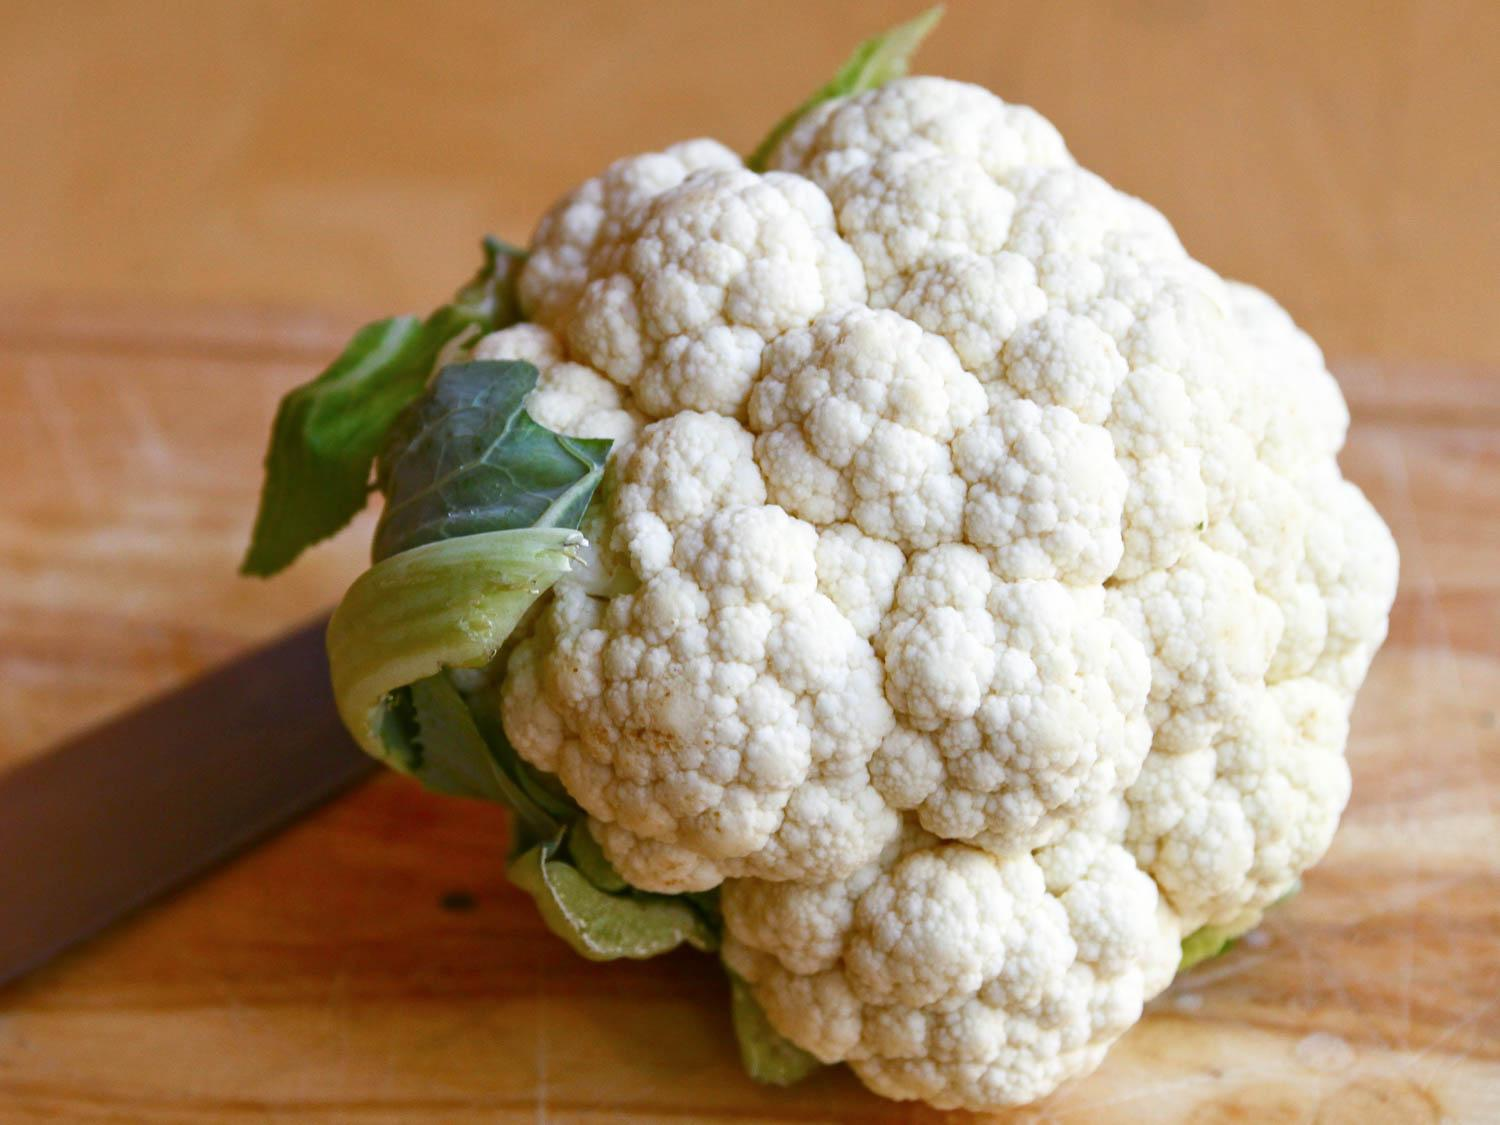cauliflower: (328, 70, 1402, 1112)
